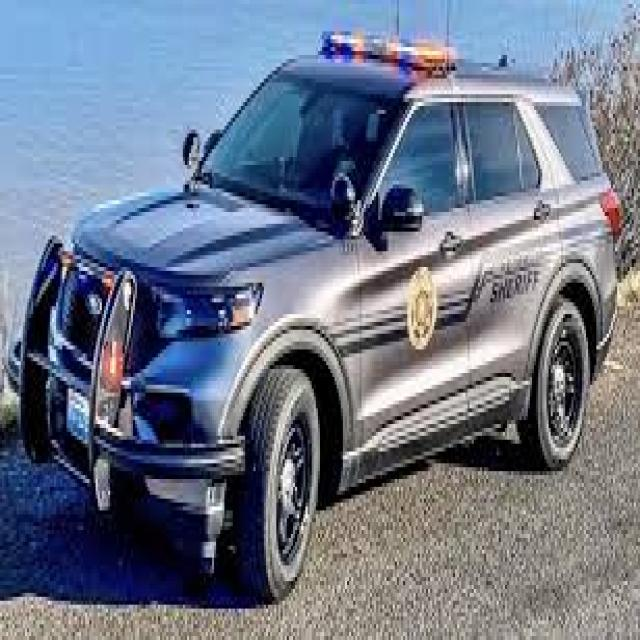cop: (10, 31, 622, 616)
